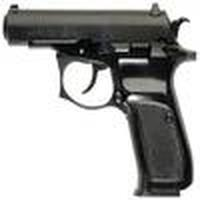gun: (2, 1, 198, 195)
